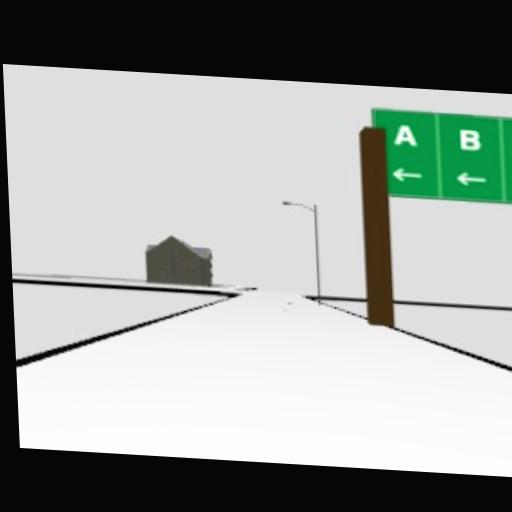A: (392, 122, 416, 147)
B: (458, 128, 480, 151)
Left: (454, 171, 489, 187), (390, 167, 423, 183)
